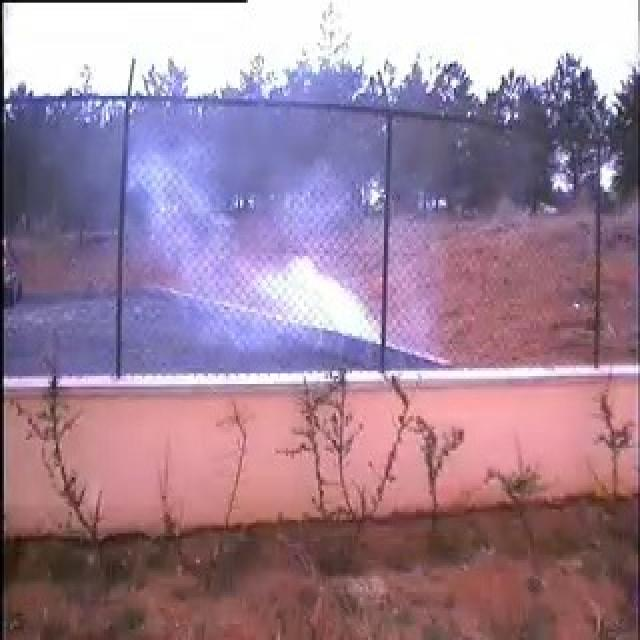smoke: (130, 122, 383, 360)
